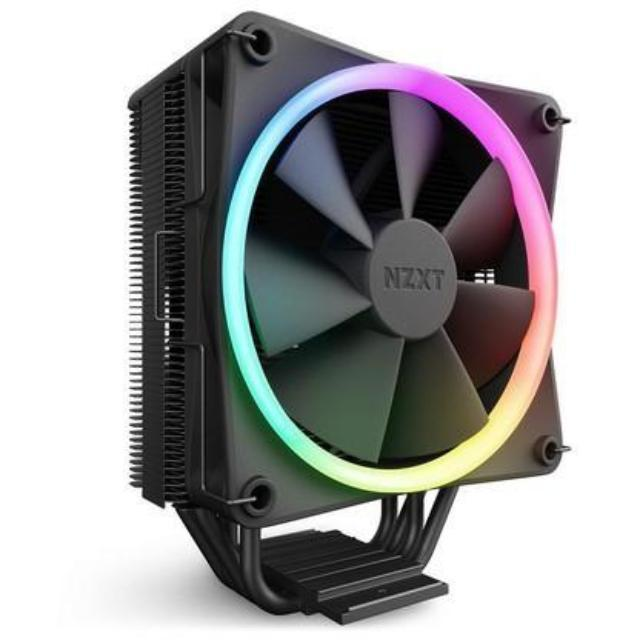CPU_Fan: (120, 5, 572, 630)
